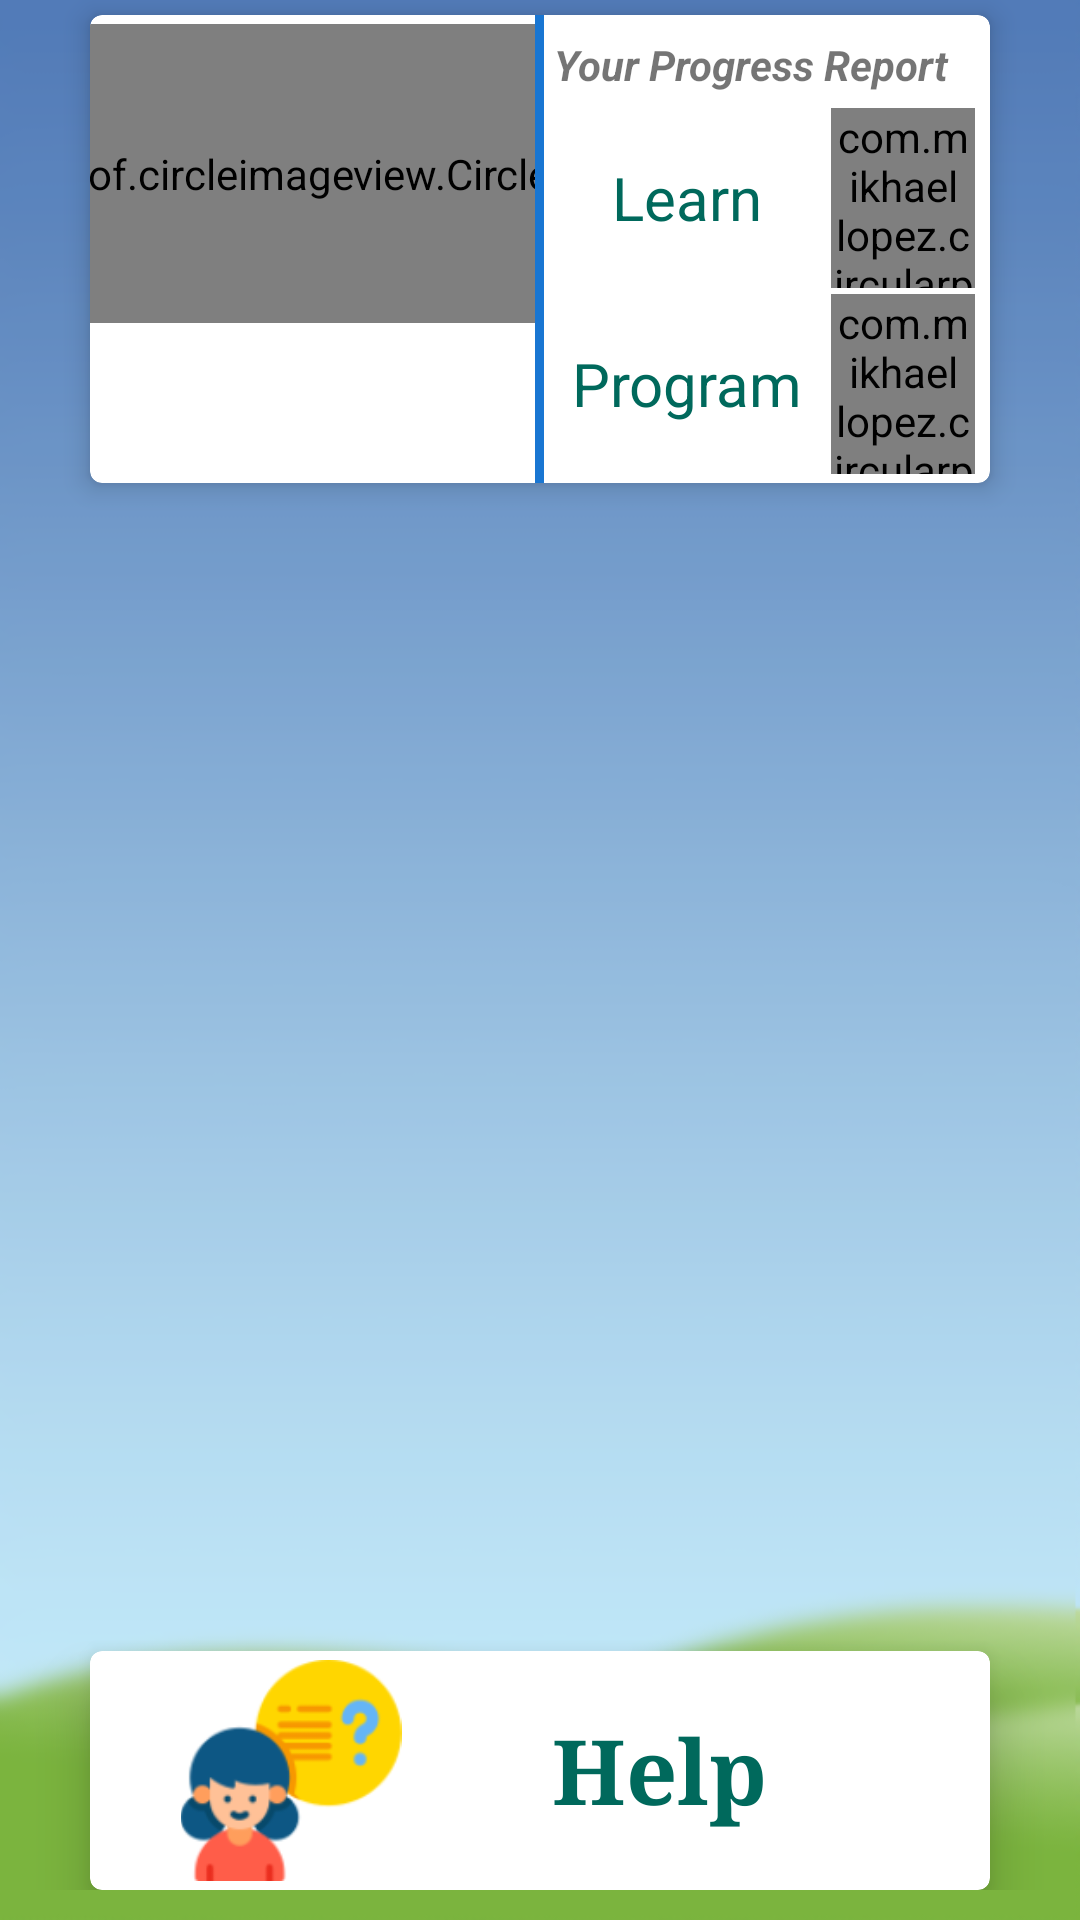

Point at icon controls on the screen. Image size 1080x1920, points as (x=x, y=y).
asking: (x=291, y=1770)
